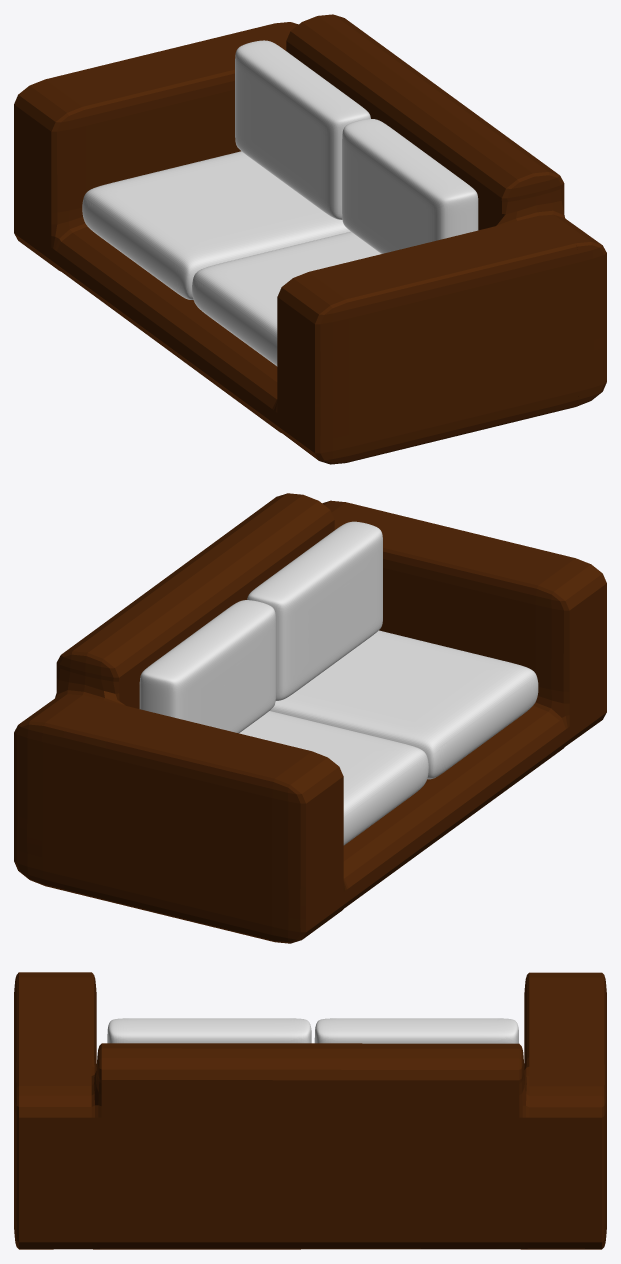
Rendered from Sofa.fbx.
The picture shows the model from 3 angles, top to bottom: view 1: azimuth 30°, elevation 25°; view 2: azimuth 150°, elevation 25°; view 3: azimuth 270°, elevation 25°; orthographic projection. The views are drawn at different scales.
Visible parts, largest first — view 1: Cube, Cube.001, Cube.003, Cube.004, Cube.002; view 2: Cube, Cube.002, Cube.004, Cube.003, Cube.001; view 3: Cube, Cube.004, Cube.003.
Part boxes in pixels (box(x1,y1,x2,y2)): Cube: box(14, 14, 606, 464); Cube.001: box(82, 151, 350, 299); Cube.003: box(235, 40, 370, 219); Cube.004: box(342, 119, 478, 253); Cube.002: box(192, 231, 380, 366); Cube: box(14, 493, 606, 943); Cube.002: box(270, 630, 538, 779); Cube.004: box(247, 521, 382, 700); Cube.003: box(139, 600, 275, 733); Cube.001: box(239, 711, 428, 845); Cube: box(14, 972, 606, 1249); Cube.004: box(107, 1018, 311, 1043); Cube.003: box(314, 1018, 518, 1043).
Bounding box in the file's own units: 1581 × 1047 × 2869.
